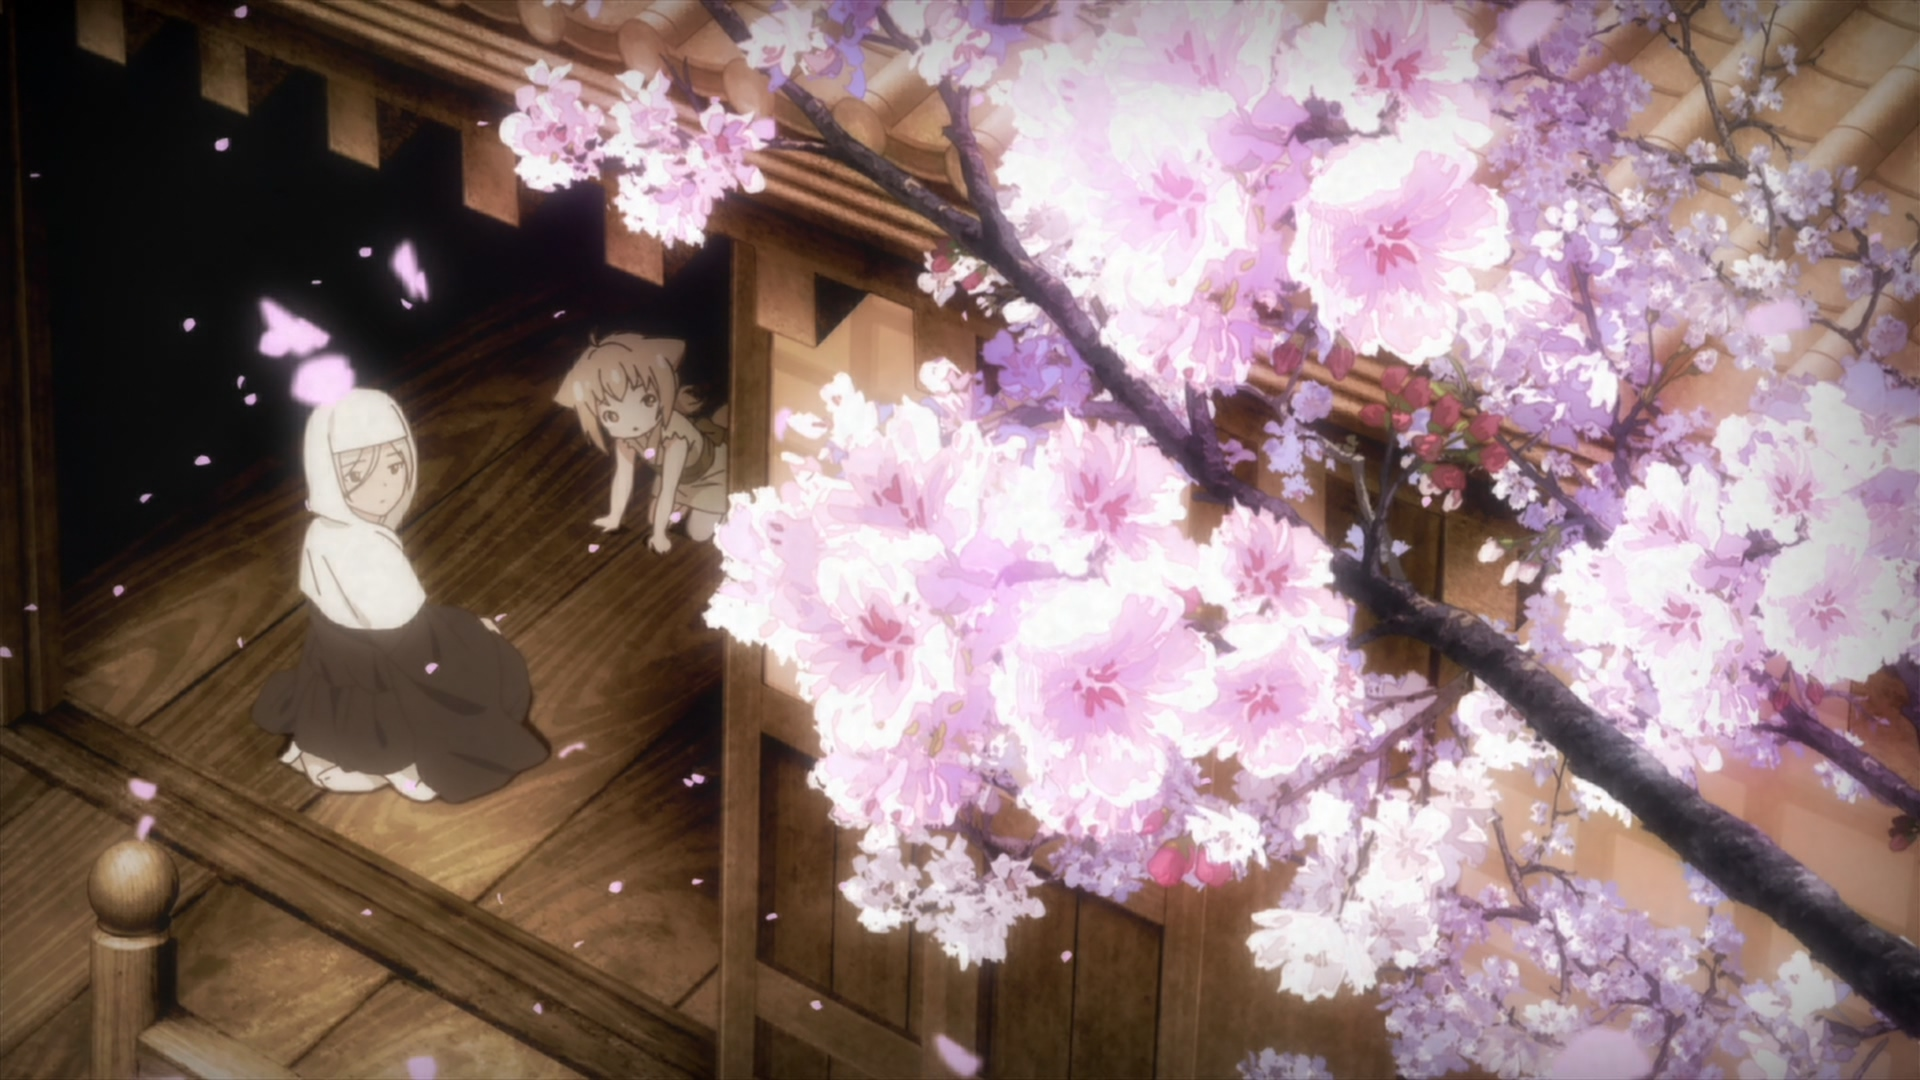八百比丘尼: (248, 386, 554, 807)
柚: (554, 328, 728, 556)
